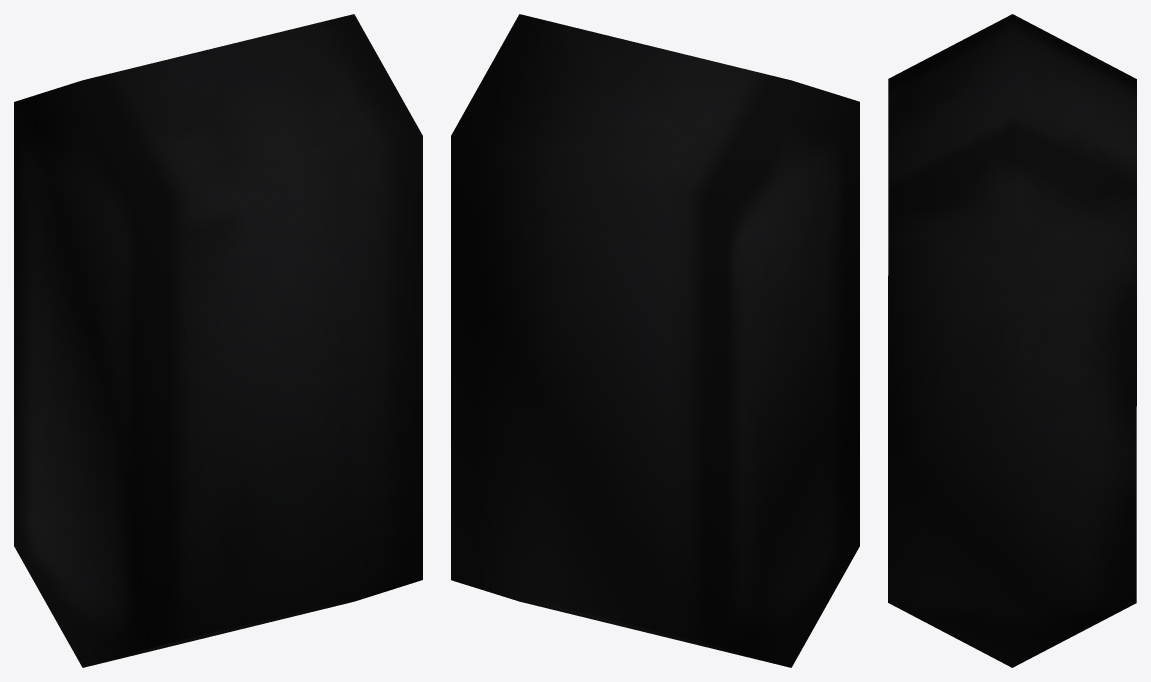
File: mtorso.dae
3 renders of one model, left to right at view 1: azimuth 30°, elevation 25°; view 2: azimuth 150°, elevation 25°; view 3: azimuth 270°, elevation 25°, orthographic. The views are drawn at different scales.
Parts seen in each view (by area): view 1: mtorso_ncl1_1; view 2: mtorso_ncl1_1; view 3: mtorso_ncl1_1.
Boxes of the visible parts, x1,y1,x2,y2 form: mtorso_ncl1_1: (14, 14, 422, 667); mtorso_ncl1_1: (451, 14, 859, 667); mtorso_ncl1_1: (888, 14, 1136, 667).
Bounding box in the file's own units: 0.0369 × 0.0322 × 0.0761.
1 material, 1 textured.
